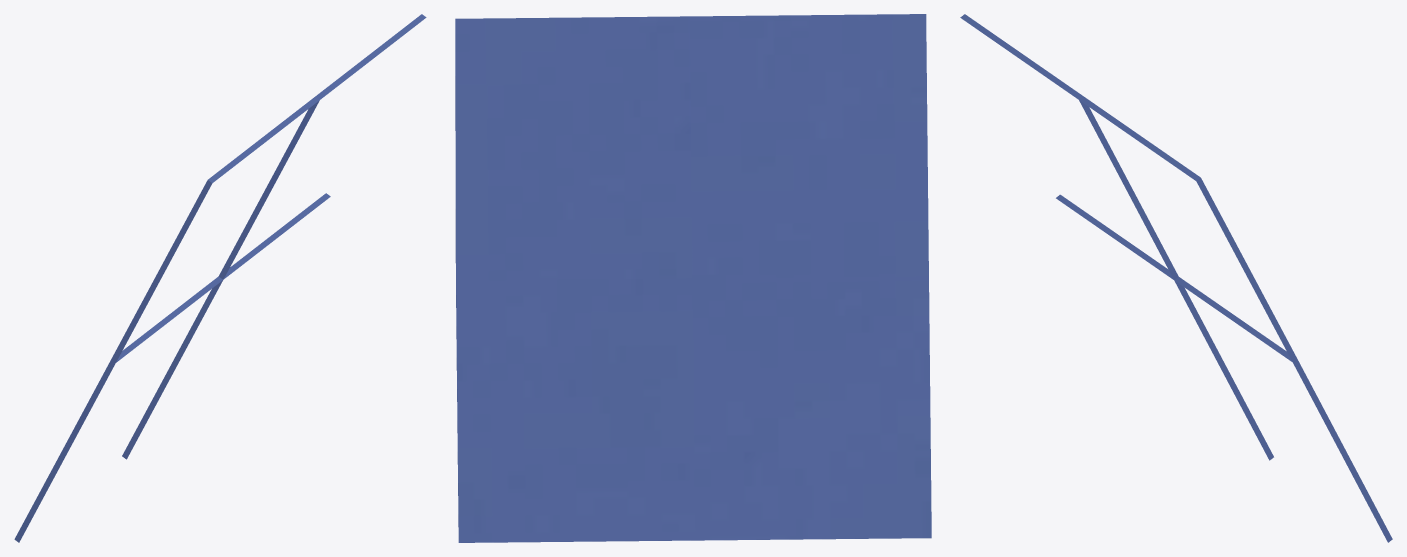
3 views of the same model, side by side, from view 1: azimuth 30°, elevation 25°; view 2: azimuth 150°, elevation 25°; view 3: azimuth 270°, elevation 25° (orthographic). The views are drawn at different scales.
Size of the model in its own units: 19672 by 17686 by 16808.
1 material, 1 textured.
